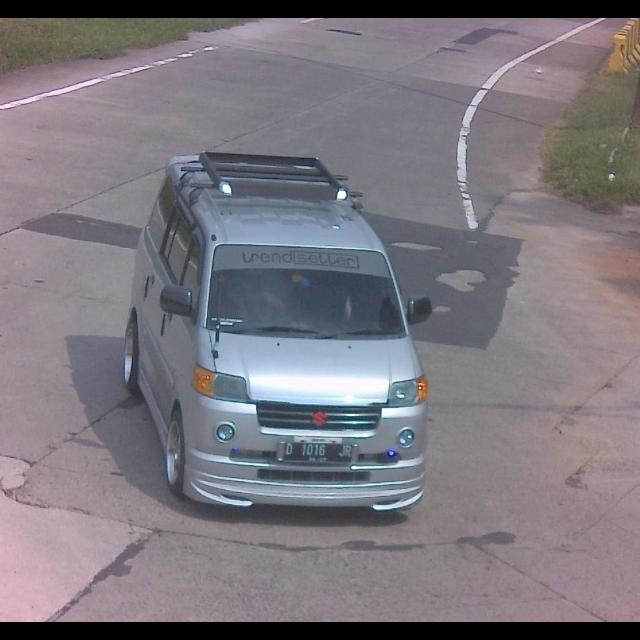plate: (279, 442, 355, 464)
